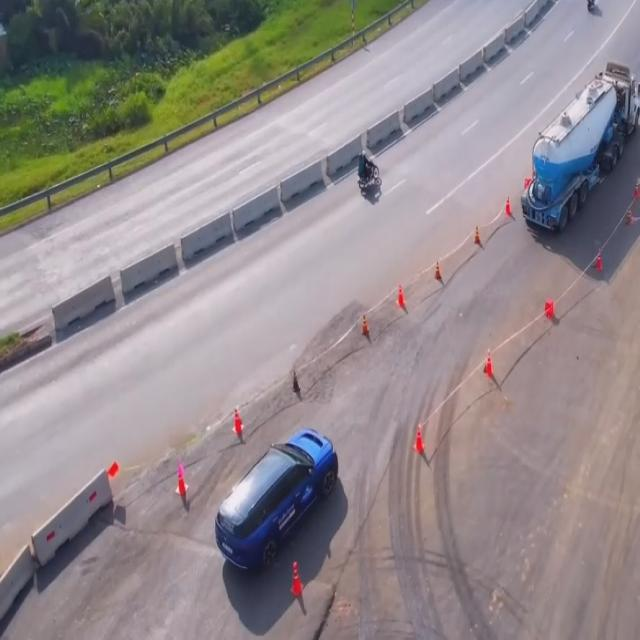car: (216, 430, 344, 582)
motorbike: (356, 149, 380, 194), (585, 0, 602, 16)
truck: (520, 64, 638, 238)
